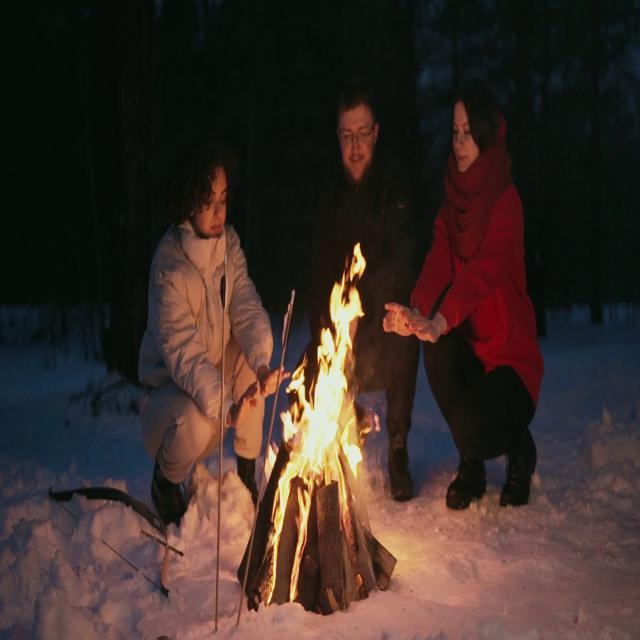Fire: (264, 243, 374, 553)
